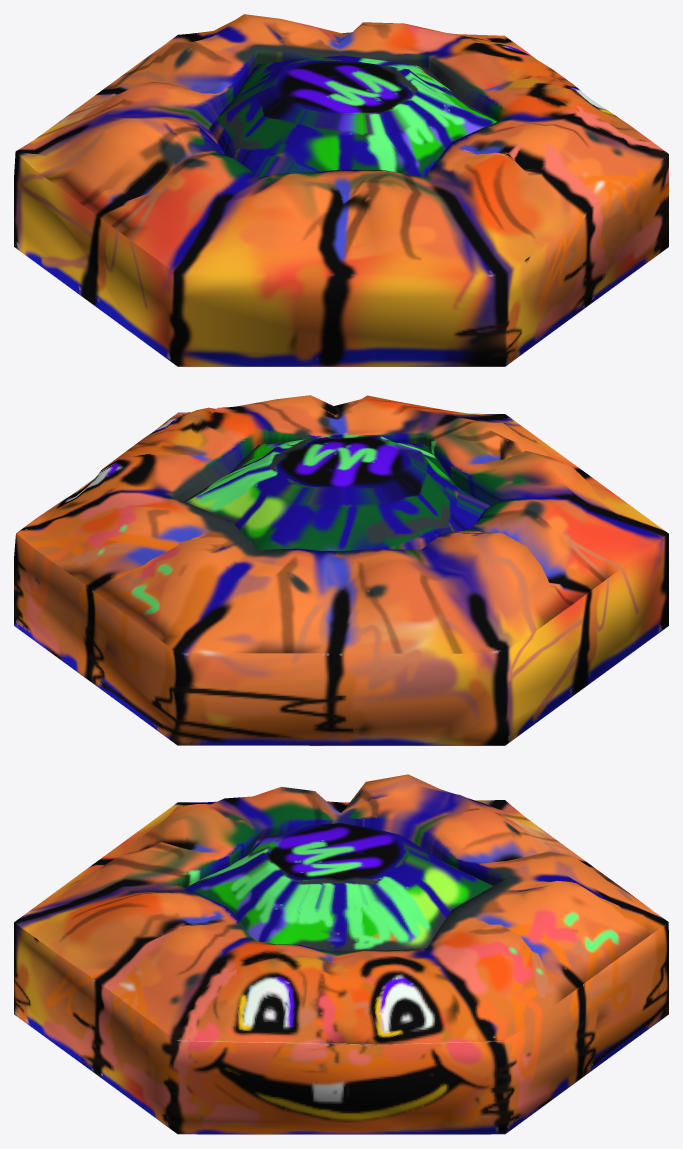
Rendered from top_hex.glb.
The picture shows the model from 3 angles, top to bottom: view 1: azimuth 30°, elevation 25°; view 2: azimuth 150°, elevation 25°; view 3: azimuth 270°, elevation 25°; orthographic projection.
Visible parts, largest first — view 1: top; view 2: top; view 3: top.
Boxes of the visible parts, x1=… form: top: x1=14, y1=14, x2=668, y2=366; top: x1=14, y1=395, x2=668, y2=745; top: x1=14, y1=774, x2=668, y2=1134.
Bounding box in the file's own units: 1.73 × 0.5605 × 2.
Materials: 1 (1 with a texture image).
